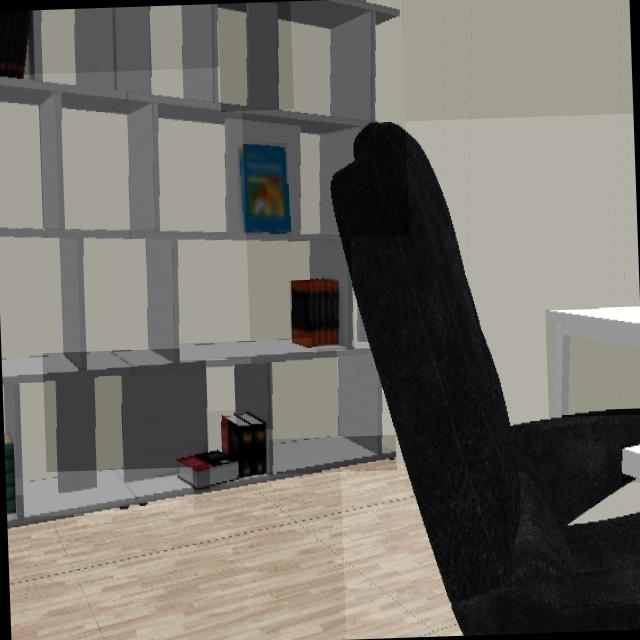book: (178, 410, 269, 489), (238, 144, 289, 233), (291, 281, 341, 350), (0, 10, 32, 78), (4, 433, 17, 517)
bookshelf: (0, 76, 245, 493), (0, 0, 401, 240), (43, 349, 207, 494), (217, 1, 290, 109), (22, 470, 193, 516), (269, 437, 396, 473), (310, 240, 352, 348), (179, 340, 313, 360), (234, 364, 271, 428), (4, 386, 22, 478)
chair: (331, 121, 640, 635)
table: (545, 306, 640, 416), (622, 444, 640, 480)
